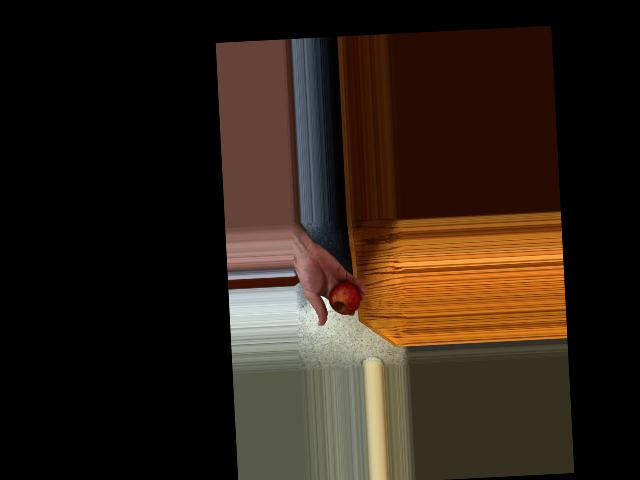apple: (325, 278, 361, 316)
